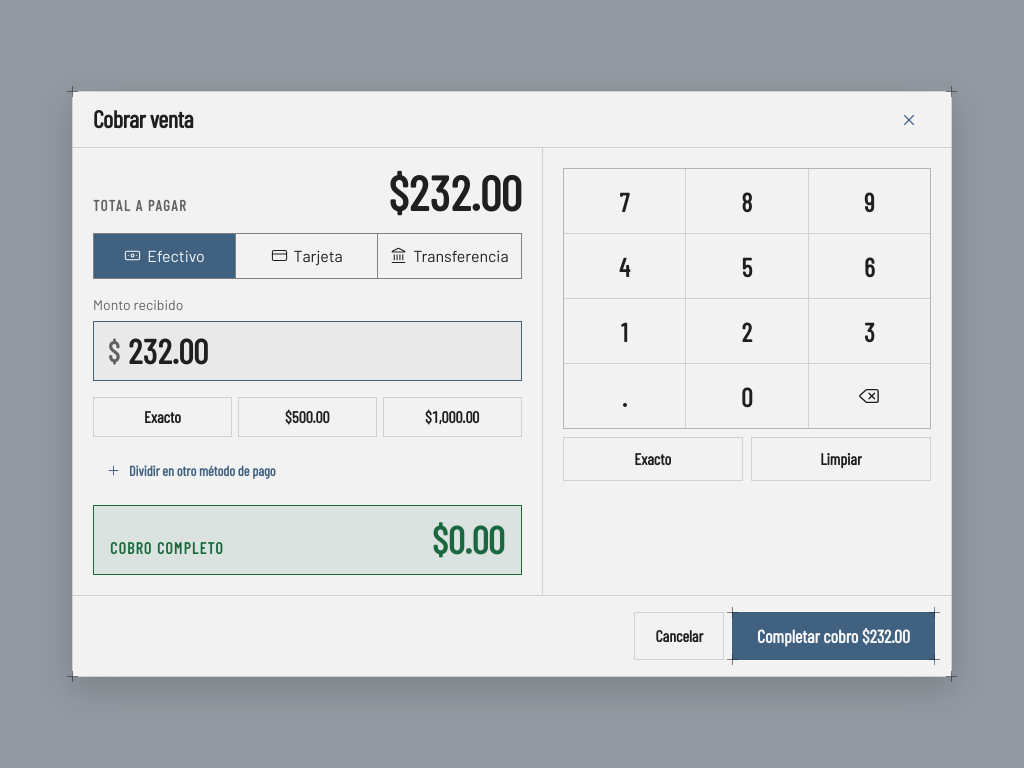
Test: PaymentModal: monto, teclado y cambio › el teclado teclea el monto y calcula el cambio como vista previa
Click the button "Limpiar": x=841, y=459 751,437 -> 931,481
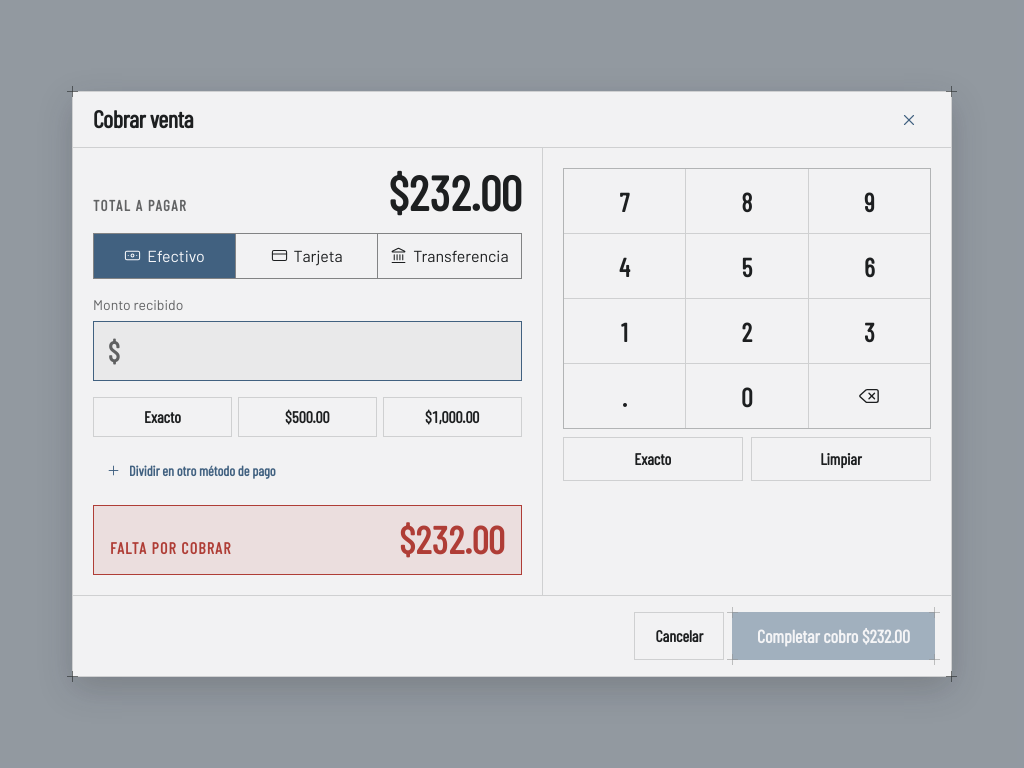
Click the button "5": x=747, y=266 686,234 -> 808,298
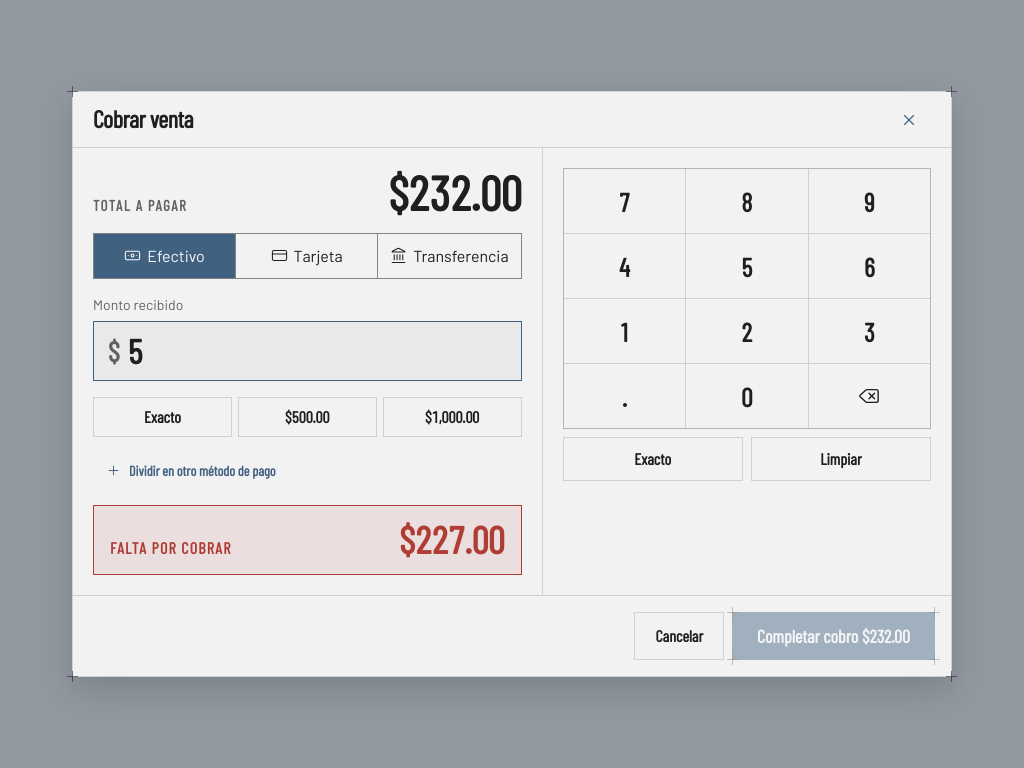
Click the button "0": x=747, y=396 686,364 -> 808,428
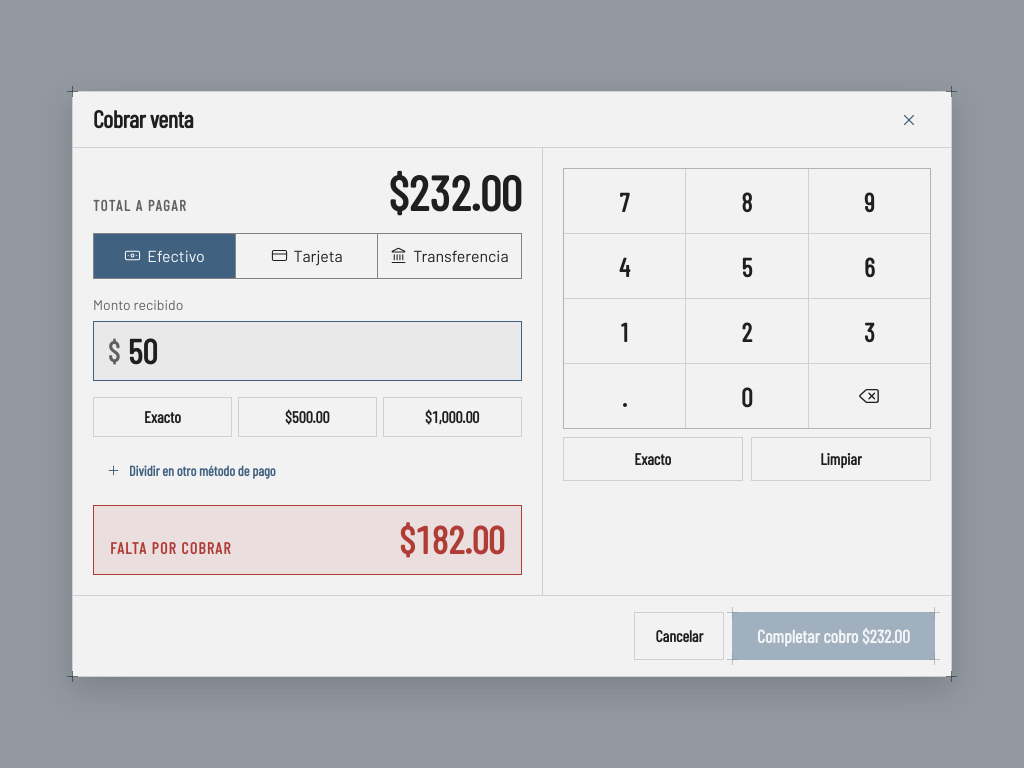
Click the button "0": x=747, y=396 686,364 -> 808,428
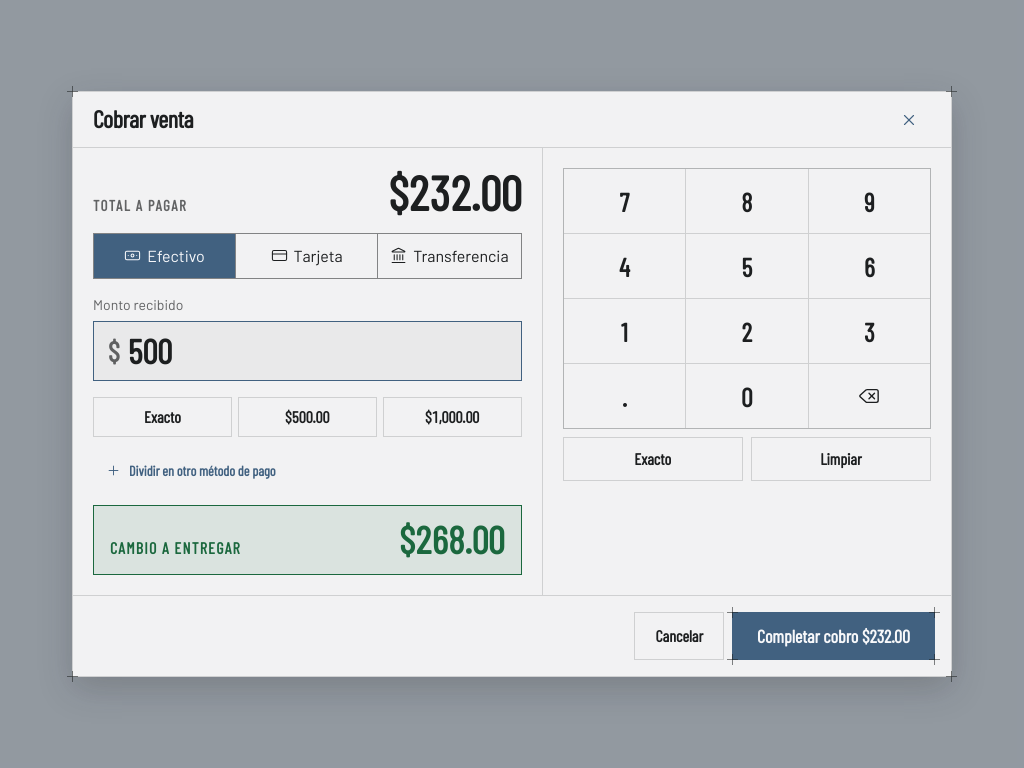
Expected: the message reads "Cambio a entregar $268.00", 93,505 -> 522,575
